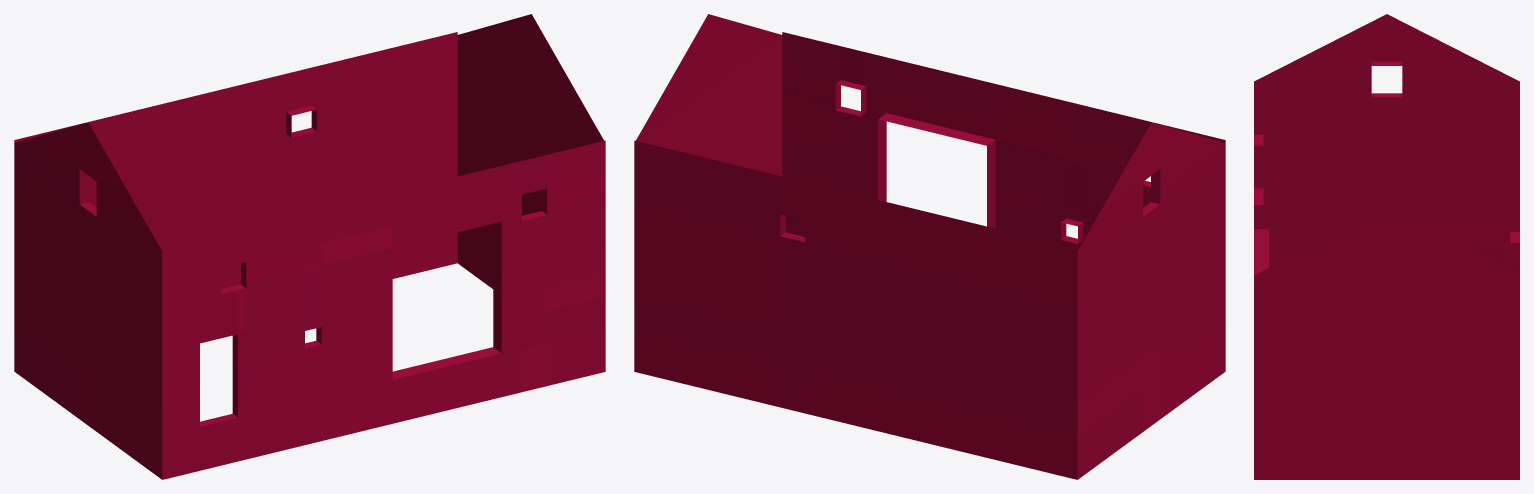
The model's file is SM_Bld_162_Masonry.glb.
3 views of the same model, side by side, from view 1: azimuth 30°, elevation 25°; view 2: azimuth 150°, elevation 25°; view 3: azimuth 270°, elevation 25° (orthographic). The views are drawn at different scales.
Visible parts, largest first — view 1: SM_Bld_162_Masonry; view 2: SM_Bld_162_Masonry; view 3: SM_Bld_162_Masonry.
Boxes of the visible parts, x1,y1,x2,y2 form: SM_Bld_162_Masonry: (14, 14, 605, 479); SM_Bld_162_Masonry: (634, 14, 1225, 479); SM_Bld_162_Masonry: (1254, 14, 1519, 479).
Size of the model in its own units: 10.57 by 6.91 by 6.12.
